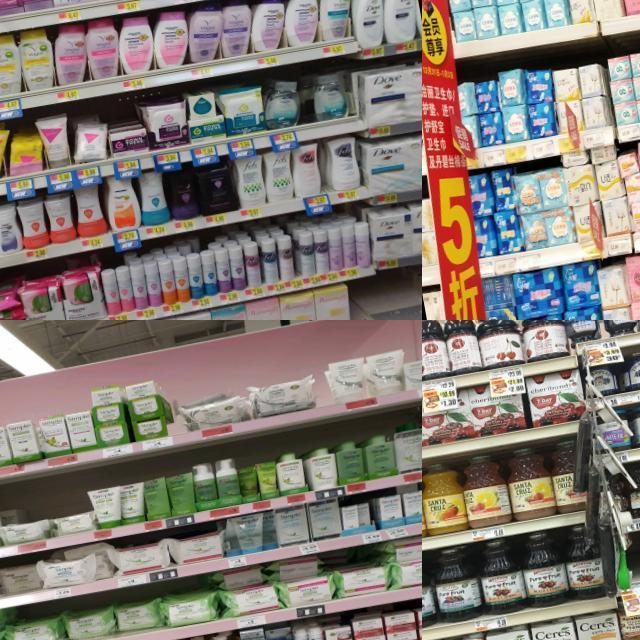Imprecise: (221, 556, 326, 611), (0, 561, 40, 597)
